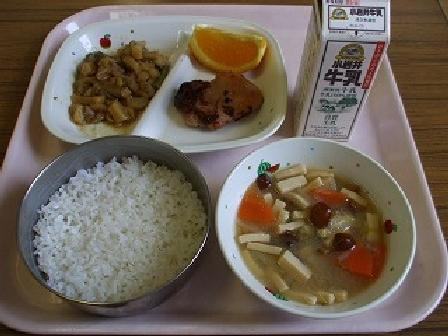Citrus: (178, 18, 273, 75)
Meat: (165, 74, 263, 140)
Milk: (288, 2, 397, 145)
Rice: (22, 143, 205, 315)
Soups: (217, 154, 412, 296)
cooked food meat with vegetables: (62, 36, 165, 132)
